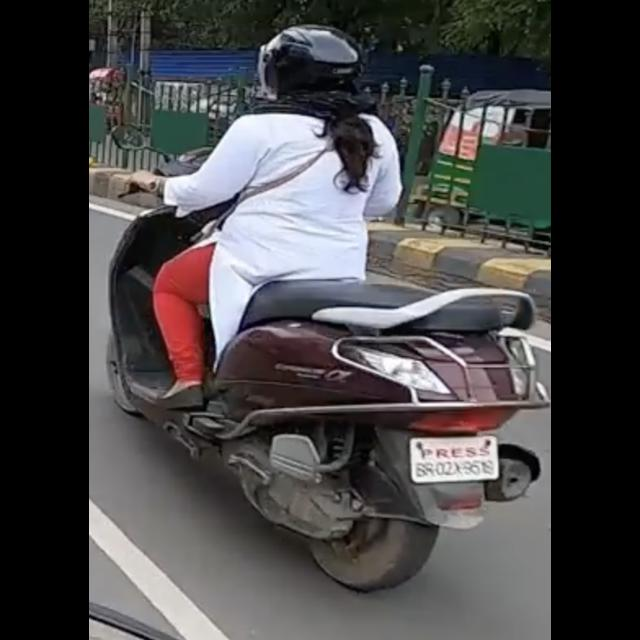with helmet: (258, 24, 358, 98)
